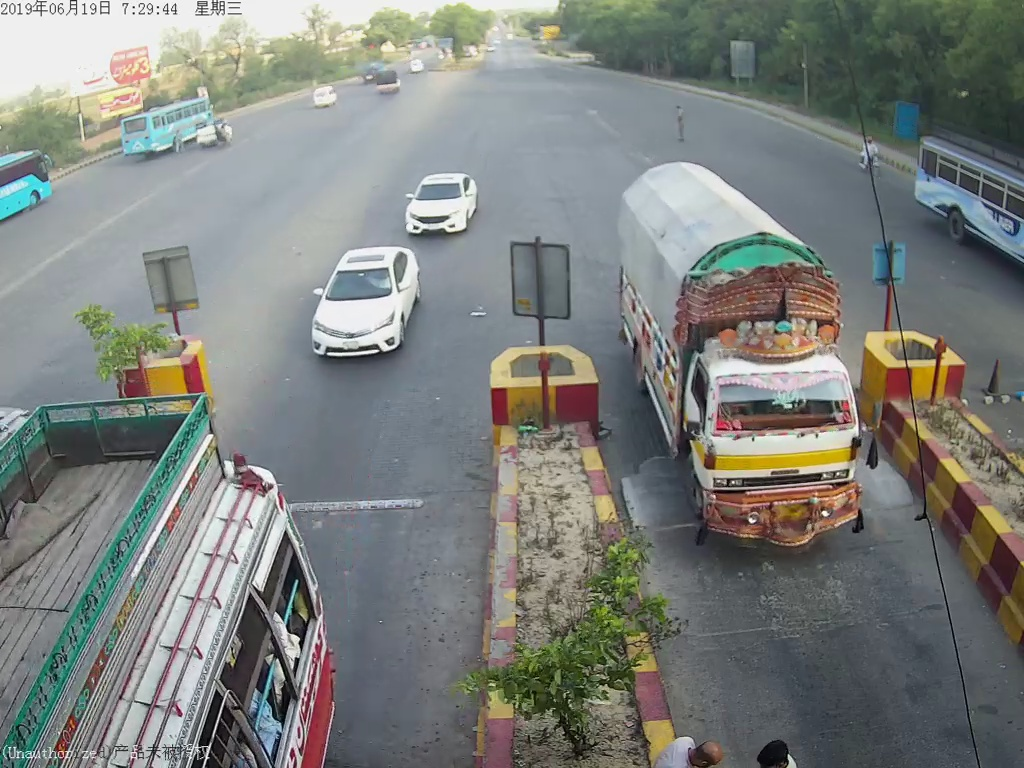Cat-1: (298, 247, 436, 352), (396, 167, 483, 236)
Cat-4: (617, 160, 867, 536)
